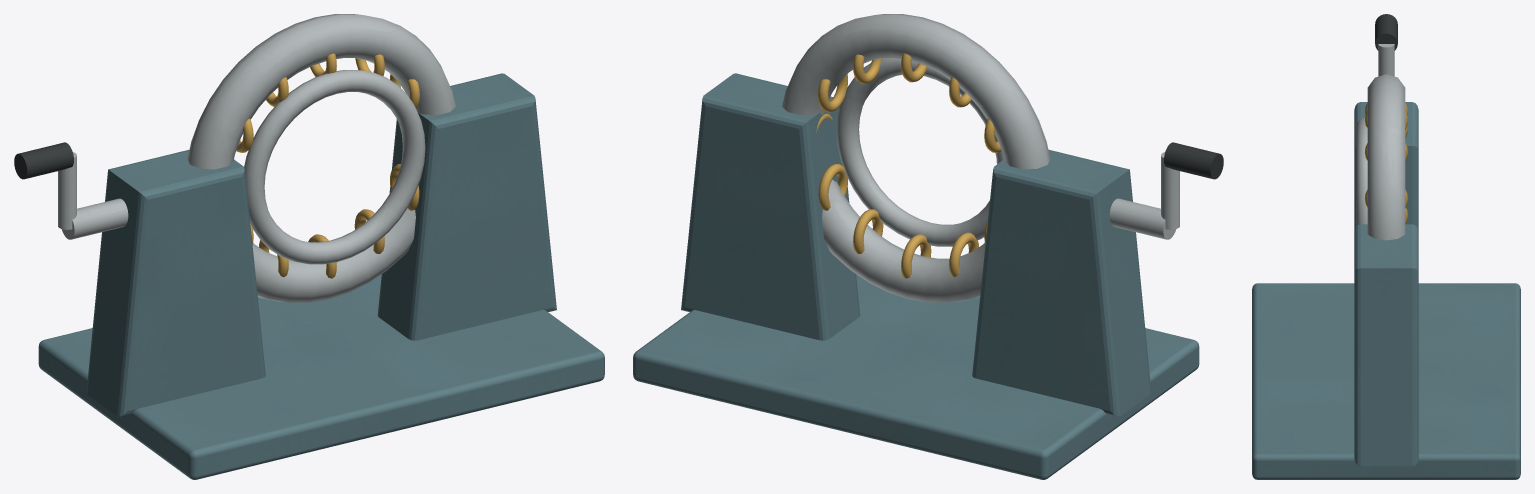
Rendered from gorgehold-survivor-gallery-and-operations-motor-windin-5081531e__32863.glb.
The picture shows the model from 3 angles, left to right: view 1: azimuth 30°, elevation 25°; view 2: azimuth 150°, elevation 25°; view 3: azimuth 270°, elevation 25°; orthographic projection. The views are drawn at different scales.
Visible parts, largest first — view 1: motor-winding-repair-stand; view 2: motor-winding-repair-stand; view 3: motor-winding-repair-stand.
Boxes of the visible parts, x1=… form: motor-winding-repair-stand: x1=14, y1=14, x2=604, y2=479; motor-winding-repair-stand: x1=633, y1=14, x2=1223, y2=479; motor-winding-repair-stand: x1=1252, y1=14, x2=1520, y2=479.
Size of the model in its own units: 1 by 0.658 by 0.52.
Materials: 4 (2 with a texture image).
